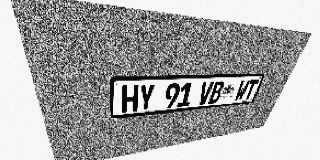1: (177, 82, 194, 107)
9: (163, 83, 181, 109)
B: (208, 81, 225, 104)
H: (122, 85, 139, 113)
T: (242, 80, 259, 100)
V: (197, 81, 214, 105)
W: (233, 80, 250, 101)
Y: (138, 84, 155, 111)
